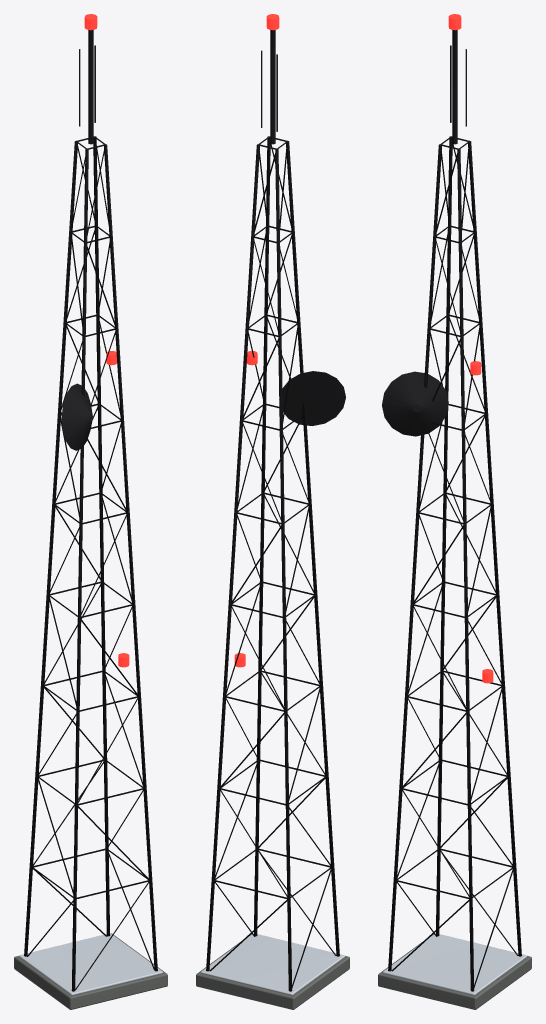
The model's file is radio_mast.glb.
3 views of the same model, side by side, from view 1: azimuth 30°, elevation 25°; view 2: azimuth 150°, elevation 25°; view 3: azimuth 330°, elevation 25° (orthographic).
Visible parts, largest first — view 1: RadioMast; view 2: RadioMast; view 3: RadioMast.
Part boxes in pixels (x1=…): RadioMast: x1=14, y1=14, x2=167, y2=1009; RadioMast: x1=196, y1=14, x2=349, y2=1009; RadioMast: x1=378, y1=14, x2=531, y2=1009.
Size of the model in its own units: 3.26 by 29.94 by 3.2.
